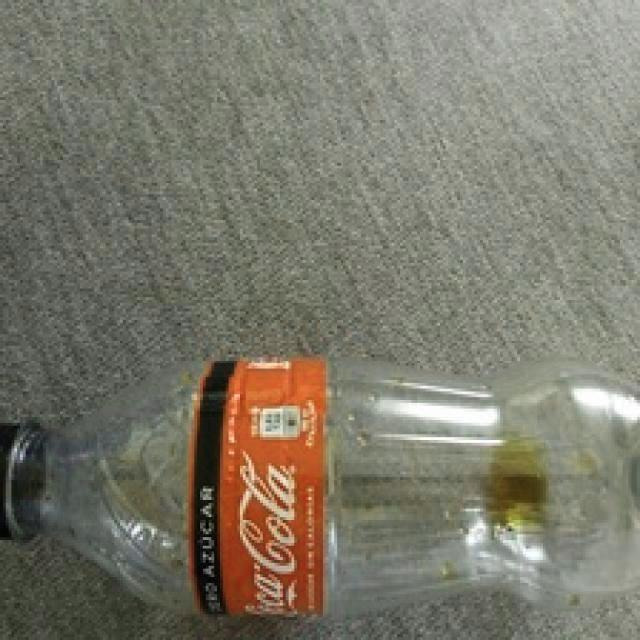bottle: (0, 358, 640, 618)
